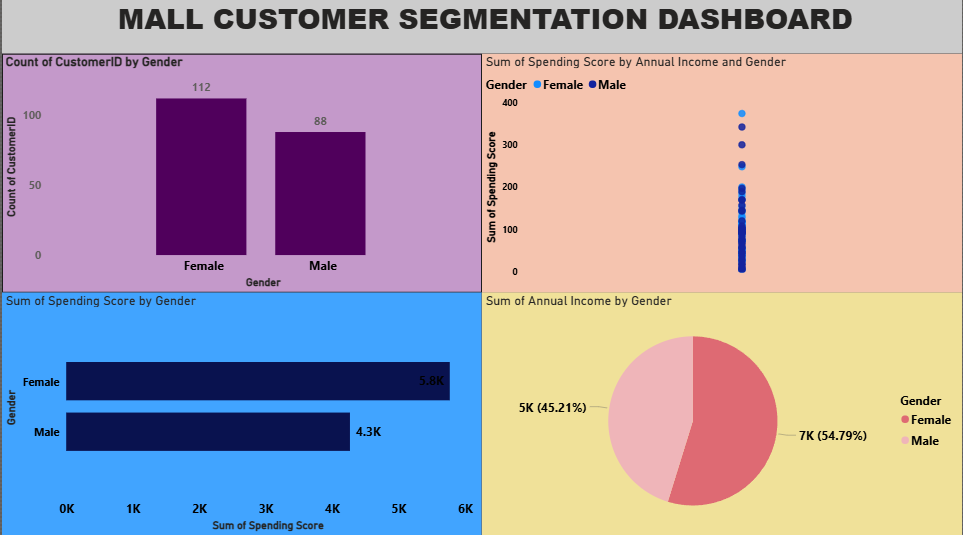

The page's visual inventory and layout, read from the dashboard file:
{"tool":"powerbi","page":{"name":"Dashbaord","canvas":[1280,720],"ordinal":0},"visuals":[{"type":"clusteredColumnChart","fields":{"Category":["Mall_Customers ds.Gender"],"Y":["CountNonNull(Mall_Customers ds.CustomerID)"]},"box":[0,77.6,639.5,318.4],"z":0},{"type":"barChart","fields":{"Category":["Mall_Customers ds.Gender"],"Y":["Sum(Mall_Customers ds.Spending Score)"]},"box":[0,396.1,639.5,323.7],"z":1000},{"type":"scatterChart","fields":{"Series":["Mall_Customers ds.Gender"],"Category":["Mall_Customers ds.Annual Income"],"Y":["Sum(Mall_Customers ds.Spending Score)"]},"box":[639.5,77.6,640.8,318.4],"z":2000},{"type":"pieChart","fields":{"Category":["Mall_Customers ds.Gender"],"Y":["Sum(Mall_Customers ds.Annual Income)"]},"box":[639.5,396.1,640.8,323.7],"z":3000},{"type":"actionButton","box":[0,0,100,40],"z":4000},{"type":"textbox","box":[0,0,1280.3,77.6],"z":5000}]}

Visuals, with their boxes in screenshot pixels (x1, y1, x2, y2), scaled from the page's 1280x720 canvas onto the 963x535 screenshot:
clusteredColumnChart - Mall_Customers ds.Gender x CountNonNull(Mall_Customers ds.CustomerID): box=[0, 58, 481, 294]
barChart - Mall_Customers ds.Gender x Sum(Mall_Customers ds.Spending Score): box=[0, 294, 481, 534]
scatterChart - Mall_Customers ds.Gender x Mall_Customers ds.Annual Income: box=[481, 58, 962, 294]
pieChart - Mall_Customers ds.Gender x Sum(Mall_Customers ds.Annual Income): box=[481, 294, 962, 534]
actionButton: box=[0, 0, 75, 30]
textbox: box=[0, 0, 962, 58]
